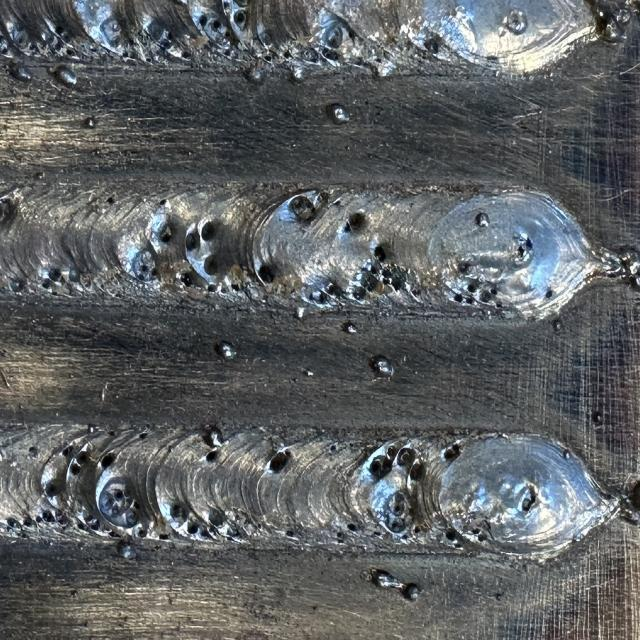Excess Reinforcement: (599, 247, 640, 289)
Porosity: (17, 24, 75, 57), (101, 17, 137, 62), (369, 442, 401, 480), (388, 492, 410, 533), (99, 485, 126, 515), (131, 250, 155, 281), (288, 195, 315, 221), (381, 262, 404, 292), (512, 232, 532, 265), (269, 448, 291, 473), (321, 22, 342, 48), (356, 270, 379, 292), (187, 521, 215, 539), (38, 267, 61, 288), (370, 455, 391, 478), (342, 212, 366, 232), (42, 508, 68, 526), (77, 514, 101, 531), (396, 447, 416, 467), (444, 440, 462, 462), (185, 223, 199, 251), (521, 487, 536, 512), (346, 212, 366, 230), (324, 282, 345, 299), (409, 460, 425, 482), (322, 47, 342, 63), (209, 508, 225, 528), (45, 481, 64, 497), (118, 542, 136, 558), (204, 255, 218, 275), (125, 507, 139, 527), (170, 505, 186, 522), (259, 265, 274, 283), (315, 190, 330, 208), (100, 452, 115, 470), (234, 8, 246, 30), (160, 29, 173, 49), (388, 518, 405, 533), (201, 222, 215, 240), (309, 290, 328, 303), (424, 37, 439, 53), (6, 517, 22, 532), (69, 458, 81, 477), (351, 285, 366, 300), (159, 225, 172, 242), (392, 498, 405, 515), (134, 523, 148, 538), (374, 245, 386, 262), (475, 212, 489, 226), (23, 514, 36, 528), (180, 272, 192, 287), (206, 450, 219, 462), (69, 268, 80, 282), (445, 528, 456, 542), (366, 262, 378, 274), (468, 280, 479, 293), (465, 293, 475, 307), (480, 290, 491, 302), (458, 262, 470, 273), (210, 18, 221, 30), (61, 445, 72, 457), (29, 445, 39, 458), (107, 530, 123, 538), (77, 450, 86, 464), (198, 15, 207, 27), (545, 288, 554, 300), (452, 292, 462, 302), (230, 282, 239, 292), (478, 533, 488, 542), (373, 532, 384, 540), (471, 527, 482, 535), (221, 0, 231, 8), (182, 51, 192, 59), (283, 49, 291, 59), (35, 514, 43, 524), (158, 533, 169, 540), (106, 197, 115, 205), (208, 283, 216, 292), (139, 432, 148, 440), (130, 500, 139, 508), (348, 523, 356, 532), (413, 527, 423, 534), (160, 198, 168, 206), (411, 289, 419, 297), (330, 444, 337, 453), (453, 543, 463, 549), (286, 530, 294, 537), (264, 56, 273, 62), (491, 288, 498, 295), (225, 30, 231, 38), (347, 32, 353, 40), (224, 51, 231, 57), (376, 58, 383, 64), (338, 532, 344, 538), (402, 534, 408, 540), (496, 303, 503, 308), (349, 443, 354, 448)
Spatters: (371, 570, 420, 600), (244, 60, 266, 85), (370, 355, 394, 376), (54, 65, 76, 87), (206, 427, 229, 448), (9, 62, 32, 82), (330, 103, 350, 125), (215, 340, 236, 360), (291, 65, 304, 81), (342, 322, 358, 332), (0, 38, 10, 54), (591, 412, 602, 425), (552, 318, 561, 332), (0, 194, 11, 204), (562, 448, 571, 460), (296, 307, 305, 318), (172, 0, 188, 6), (495, 592, 504, 602), (89, 423, 98, 433), (88, 118, 97, 126), (304, 370, 314, 377), (37, 173, 44, 181), (70, 590, 76, 597), (290, 142, 296, 148), (15, 560, 22, 565), (345, 145, 350, 150), (114, 393, 119, 398), (402, 355, 406, 361)
